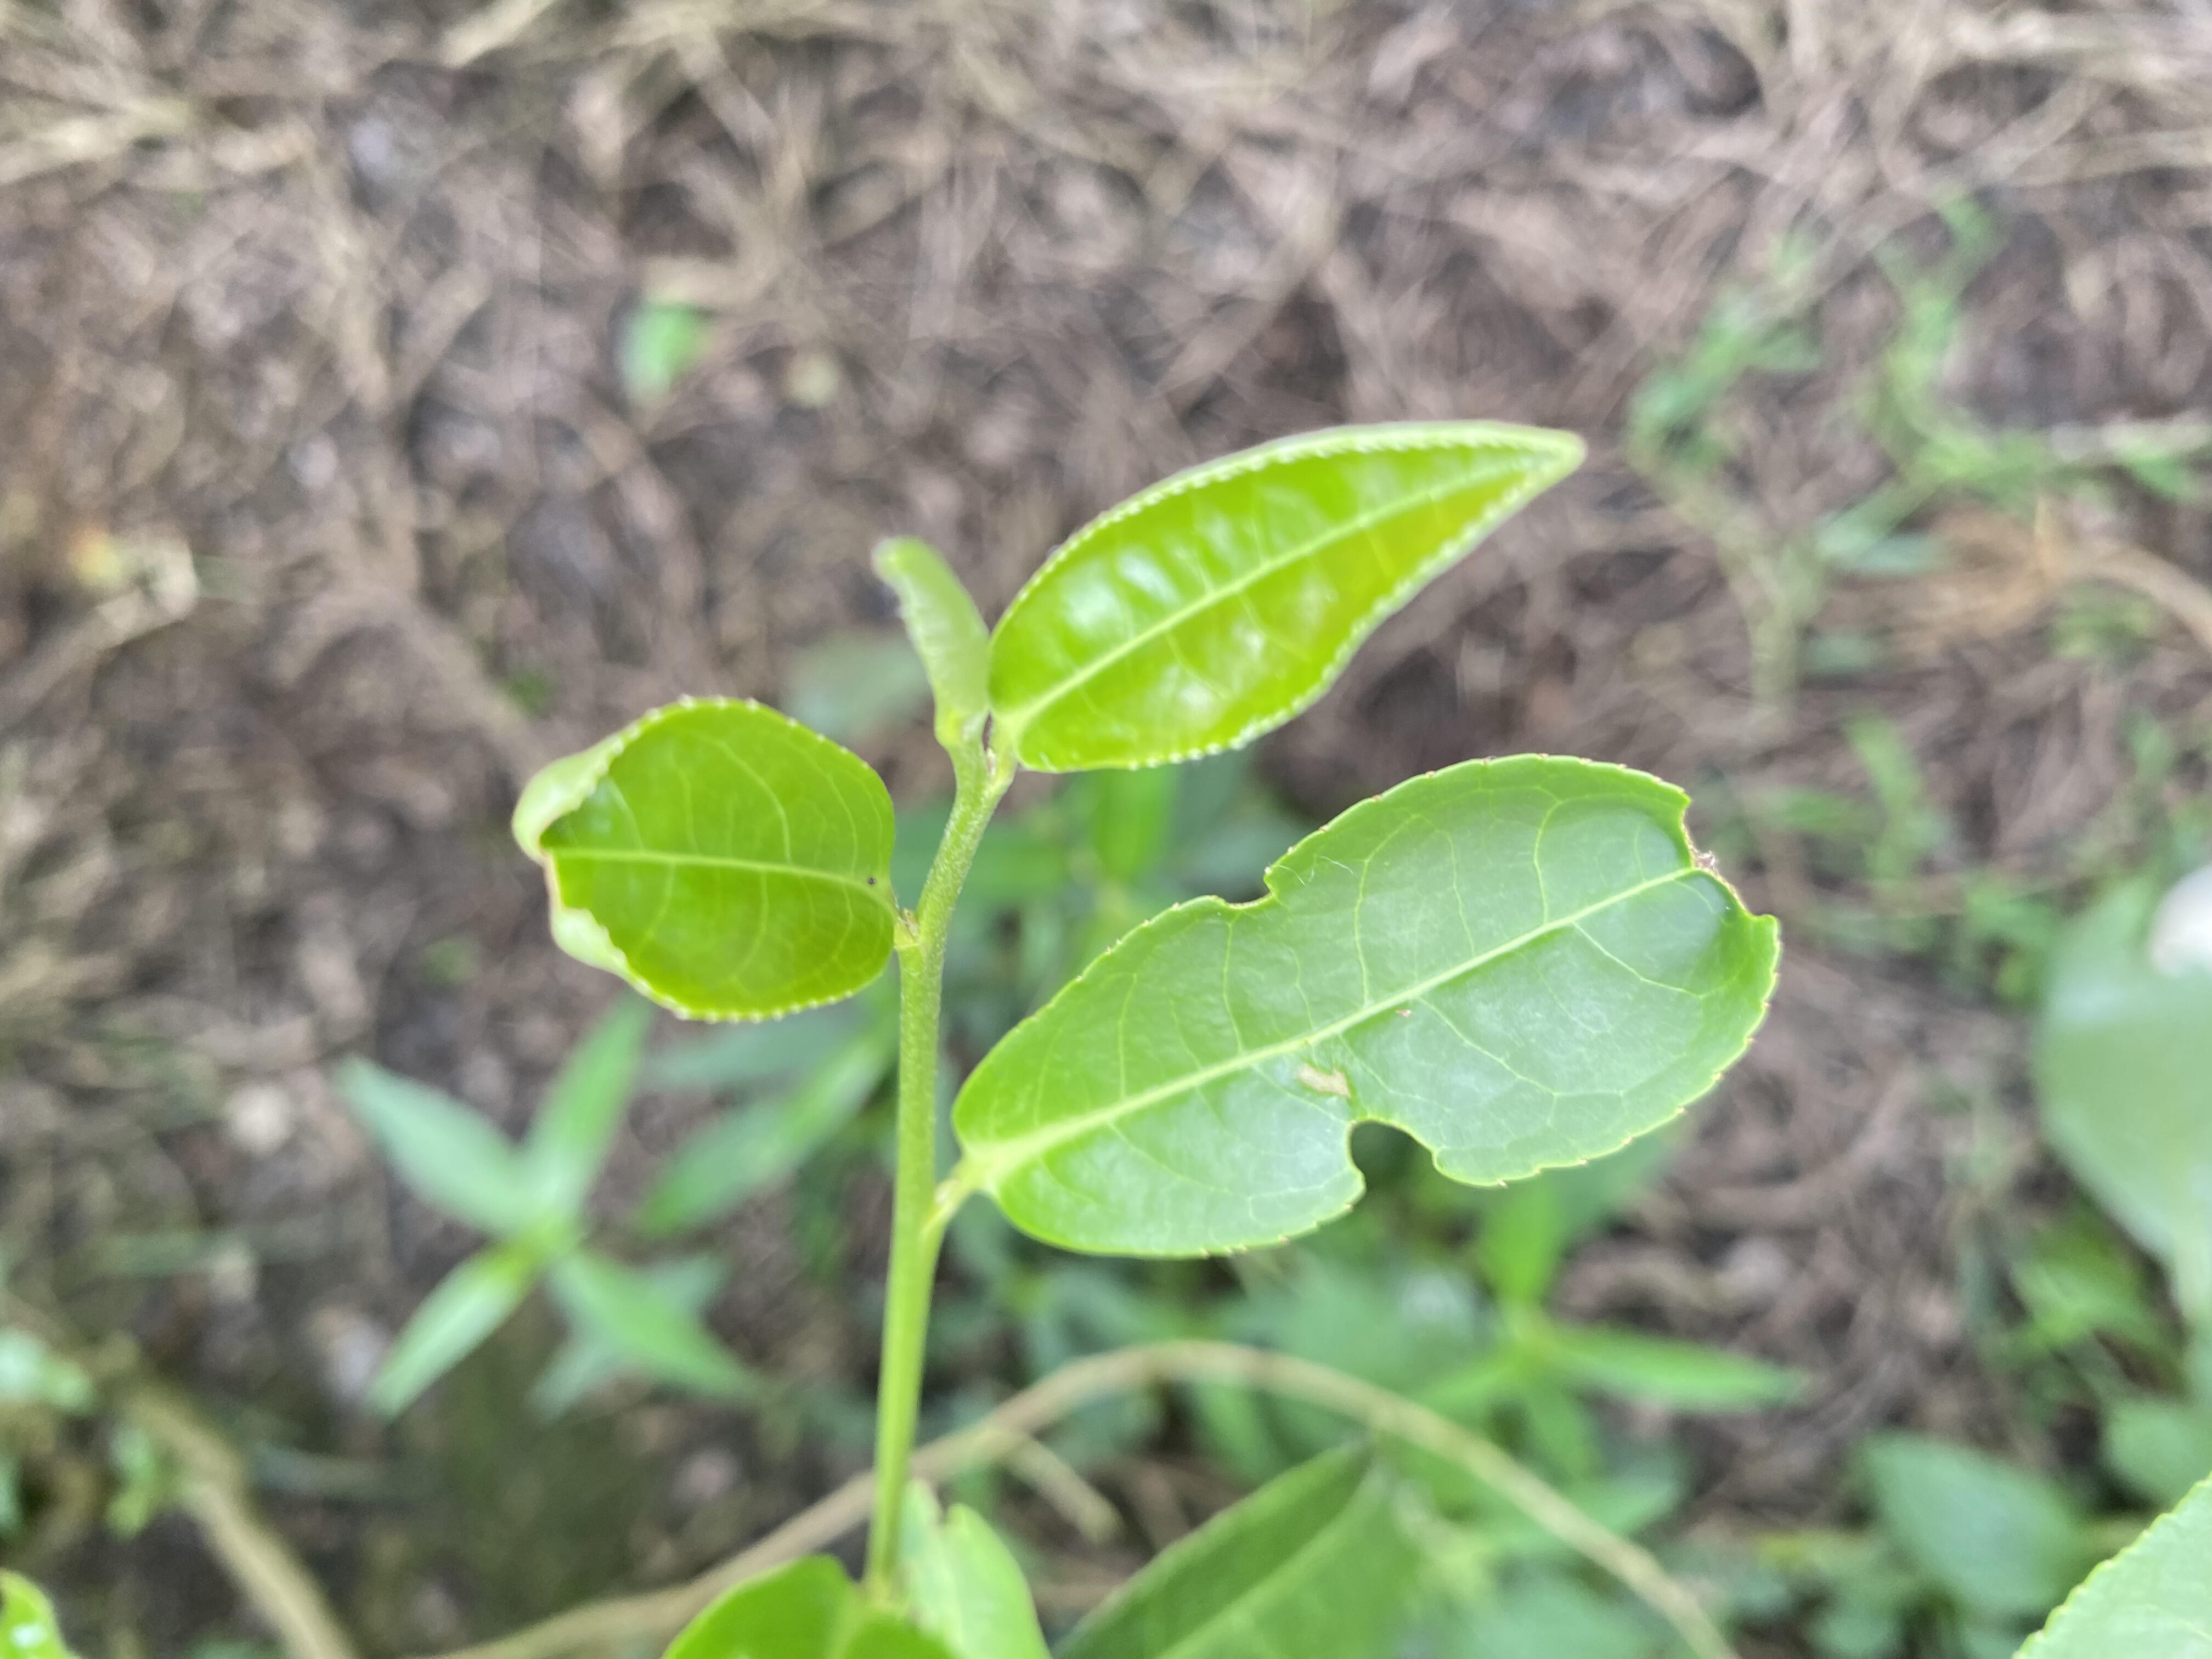chihuo_high: (953, 755, 1785, 1263)
healthy: (984, 420, 1588, 779), (510, 694, 897, 1023)
